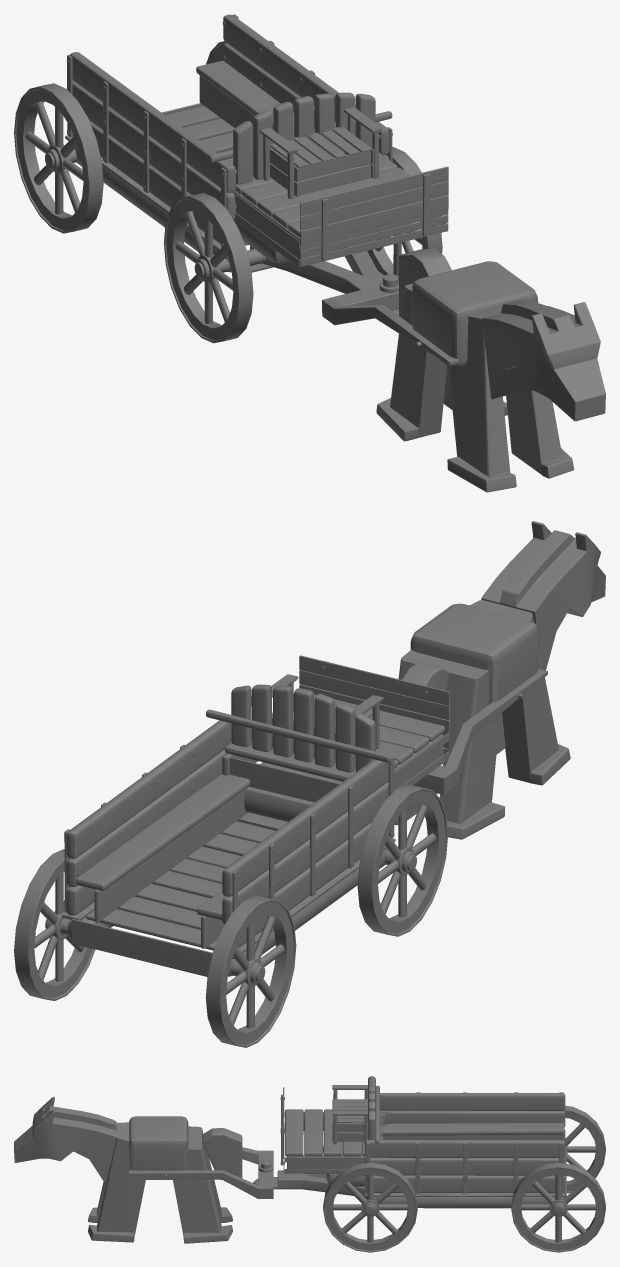
File: HorseCart.obj
3 views of the same model, one above another, from view 1: azimuth 30°, elevation 25°; view 2: azimuth 150°, elevation 25°; view 3: azimuth 270°, elevation 25° (orthographic). The views are drawn at different scales.
Visible parts, largest first — view 1: polySurface677; view 2: polySurface677; view 3: polySurface677.
Boxes of the visible parts, <box> form: polySurface677: <box>14,14,605,492</box>; polySurface677: <box>14,521,605,1047</box>; polySurface677: <box>14,1076,605,1252</box>.
Bounding box in the file's own units: 279 × 283 × 1085.
Materials: 9 (1 with a texture image).
